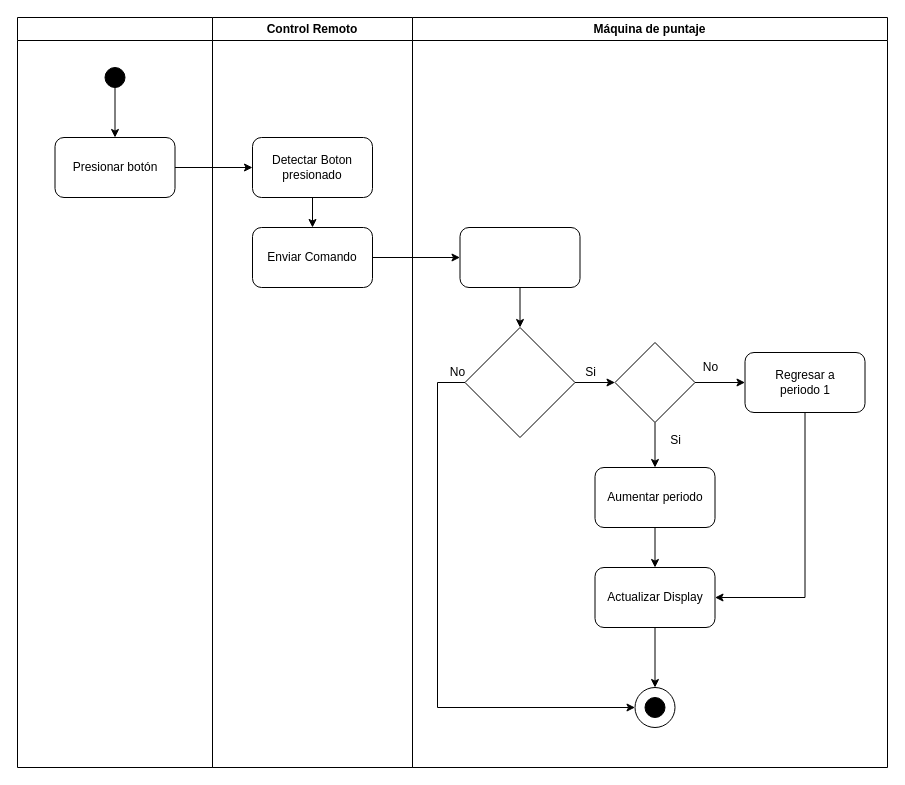
Some shapes in this 905 by 785 pixel diagram are drawn without their labels. The box of each missing label's shape, as (x1, y1, x2, y2) in pixels:
Es menor a 9: (614, 342, 695, 422)
Identificador de control remoto es válido?: (464, 326, 575, 438)
Recibir Comando: (459, 226, 580, 288)
Usuario: (16, 16, 212, 768)
